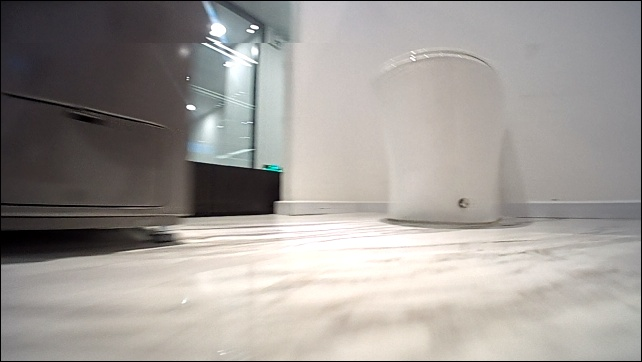toilet: (373, 44, 510, 225)
